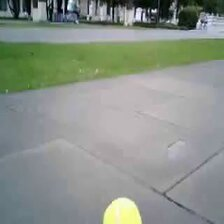tennis: (102, 197, 142, 224)
